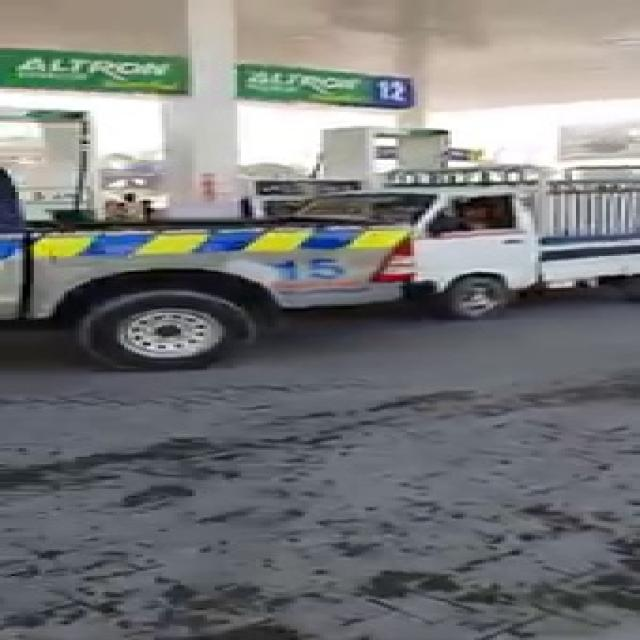police: (10, 188, 433, 380)
